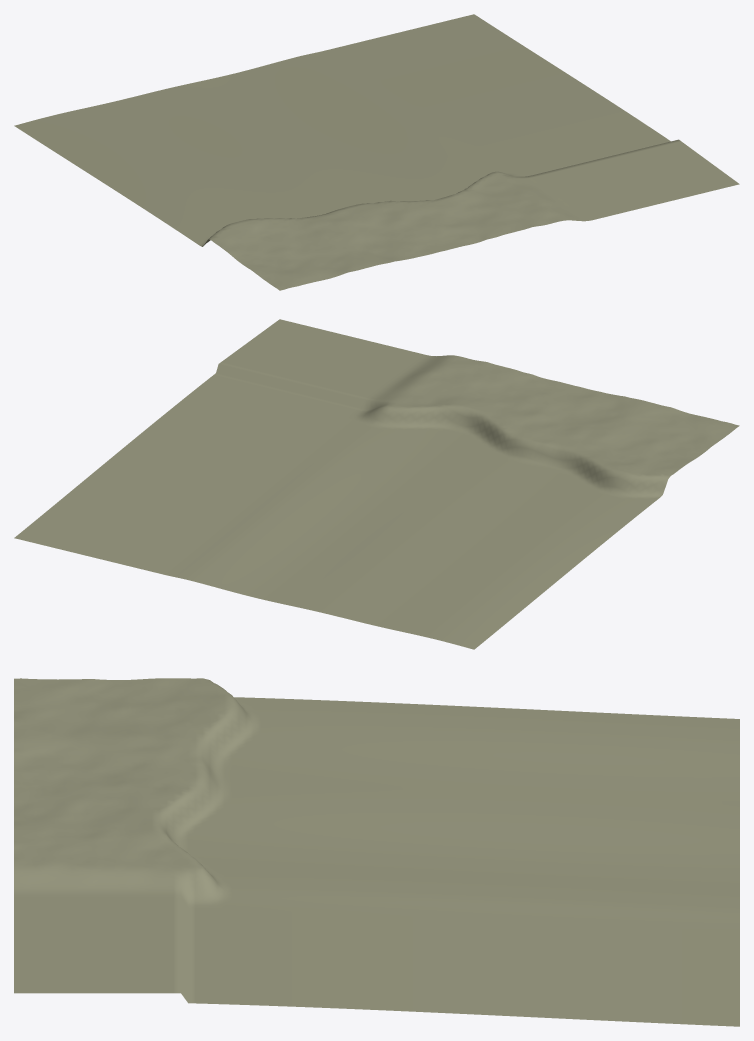
Rendered from SM_VB_Terrain_1_1.fbx.
3 views of the same model, one above another, from view 1: azimuth 30°, elevation 25°; view 2: azimuth 150°, elevation 25°; view 3: azimuth 270°, elevation 25° (orthographic). The views are drawn at different scales.
Parts seen in each view (by area): view 1: SM_VB_Terrain_1_1; view 2: SM_VB_Terrain_1_1; view 3: SM_VB_Terrain_1_1.
Boxes of the visible parts, bbox=[...] form: SM_VB_Terrain_1_1: bbox=[14, 14, 739, 290]; SM_VB_Terrain_1_1: bbox=[14, 319, 739, 649]; SM_VB_Terrain_1_1: bbox=[14, 678, 739, 1026].
Size of the model in its own units: 400 by 27.49 by 400.
